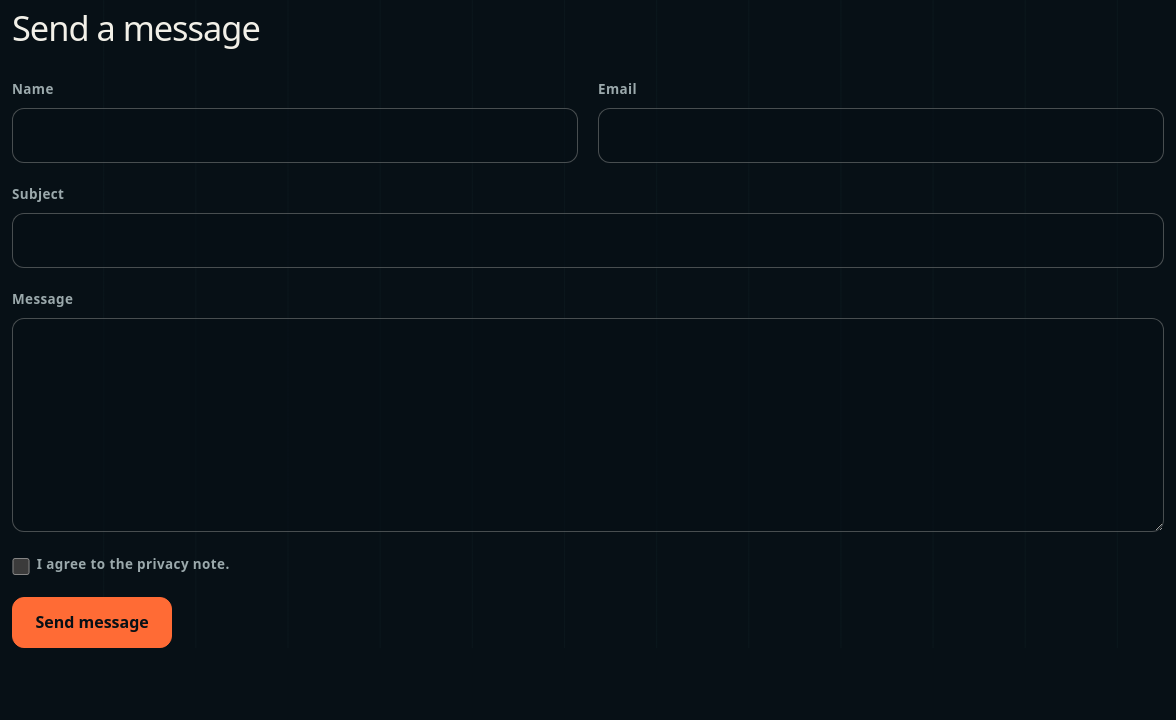
Test: ContactForm › resets fields after confirmed success
Type "Ada Lovelace" into the field labelled "Name" at [295, 136], box [12,108,578,163]
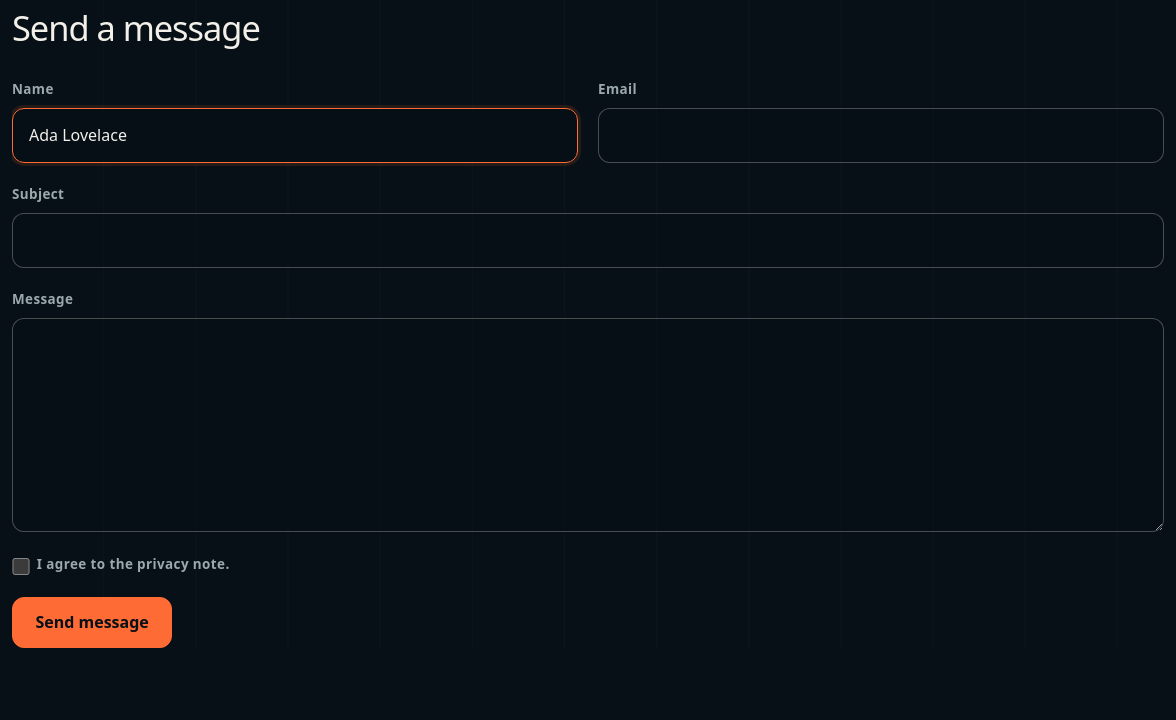
Type "ada@example.com" into the field labelled "Email" at [881, 136], box [598,108,1164,163]
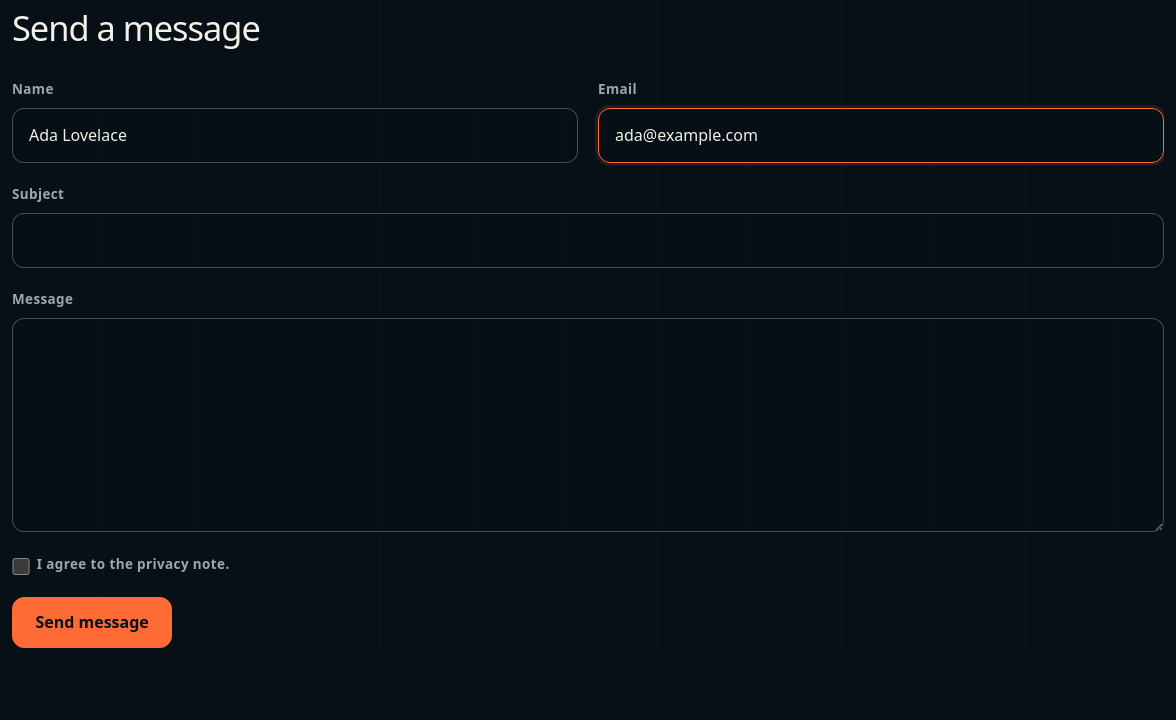
Type "A useful project" into the field labelled "Subject" at [588, 240], box [12,213,1164,268]
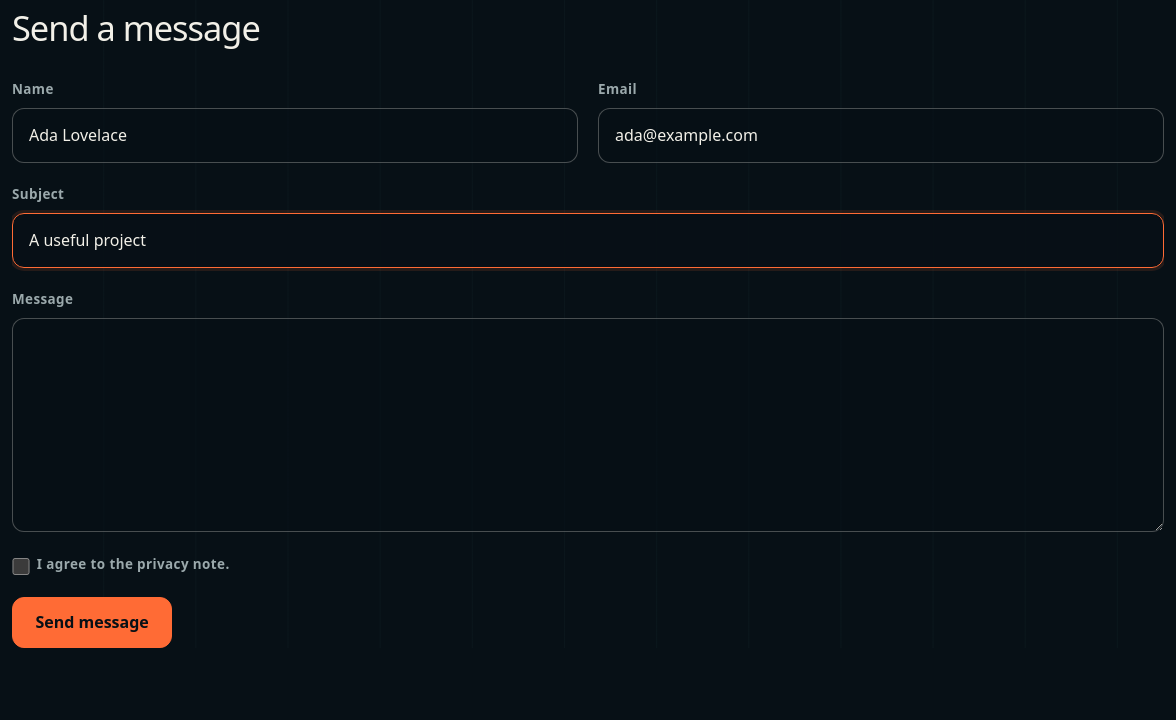
Type "This is a detailed project message for you." into the text box labelled "Message" at [588, 425], box [12,318,1164,532]
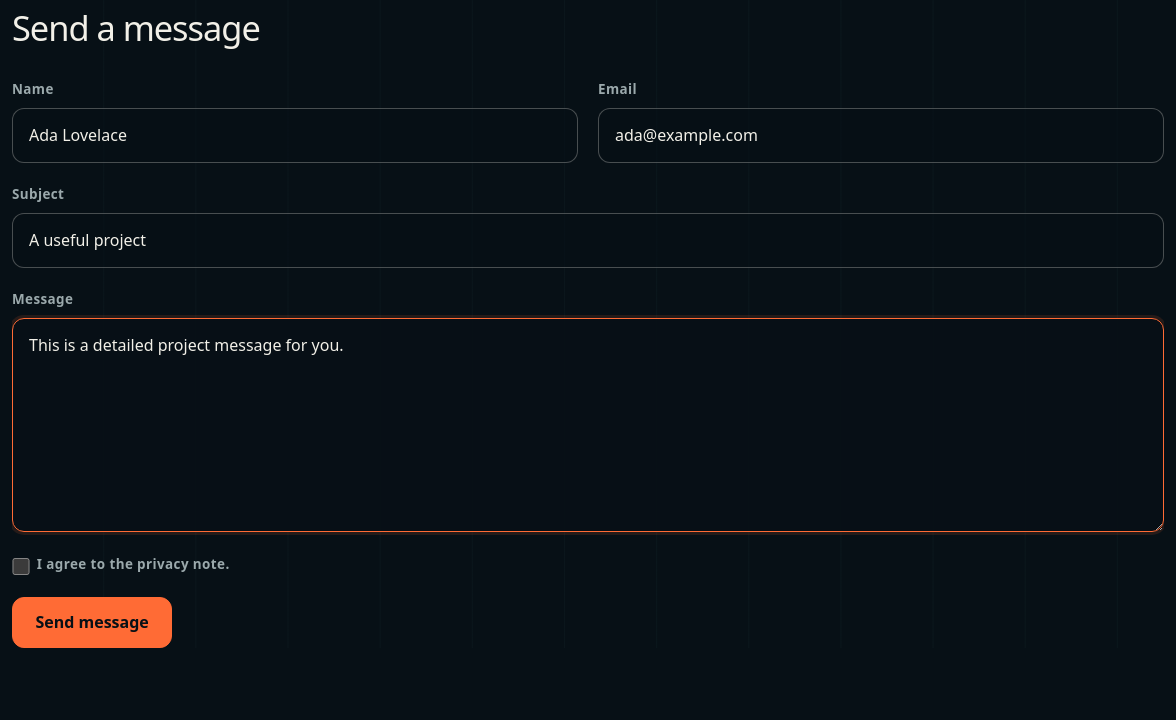
Click the checkbox labelled "I agree to the privacy note." at [21, 566], box [12,558,30,575]
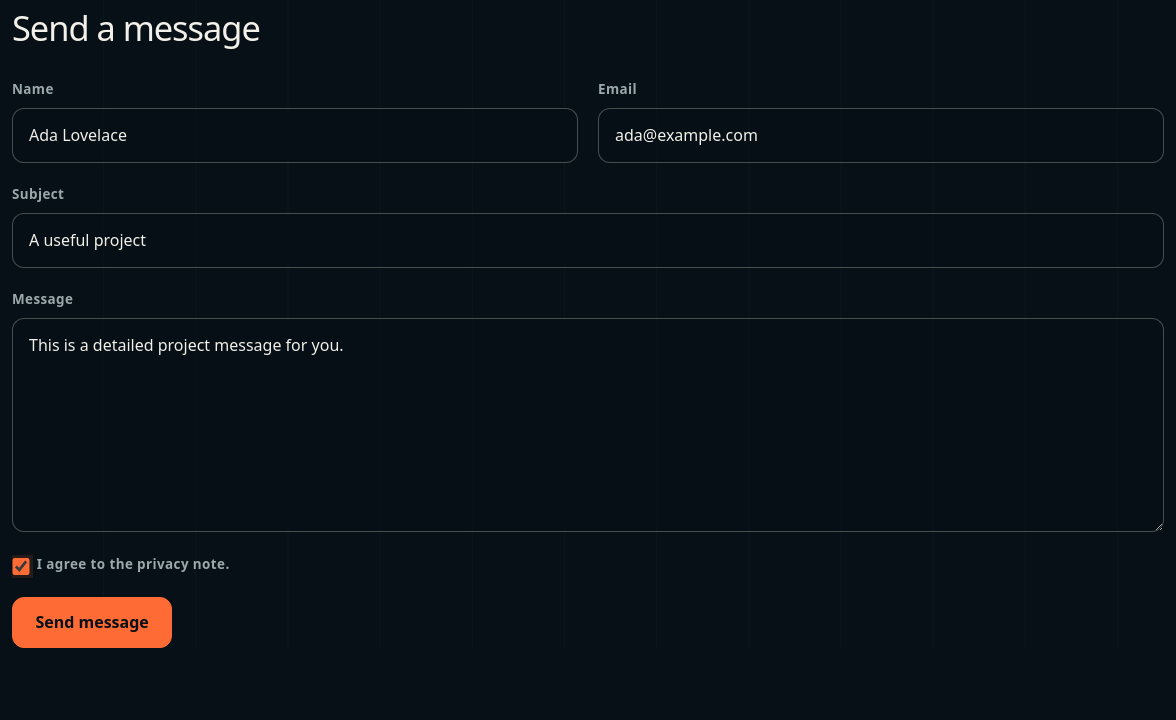
Click the button "Send message" at [92, 622], box [12,597,172,648]
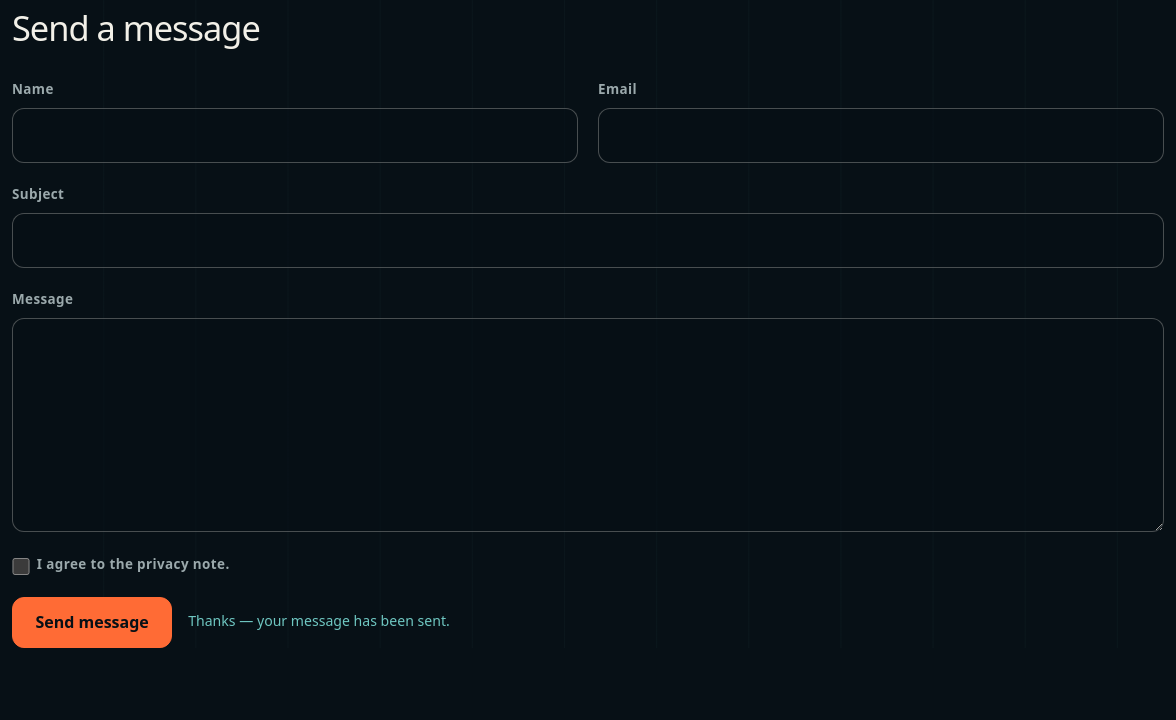
Expected: the checkbox labelled "I agree to the privacy note." is not checked, [12,558,30,575]
Expected: the text "Thanks — your message has been sent." is shown, [188,611,450,630]
Expected: the field labelled "Name" is empty, [12,108,578,163]
